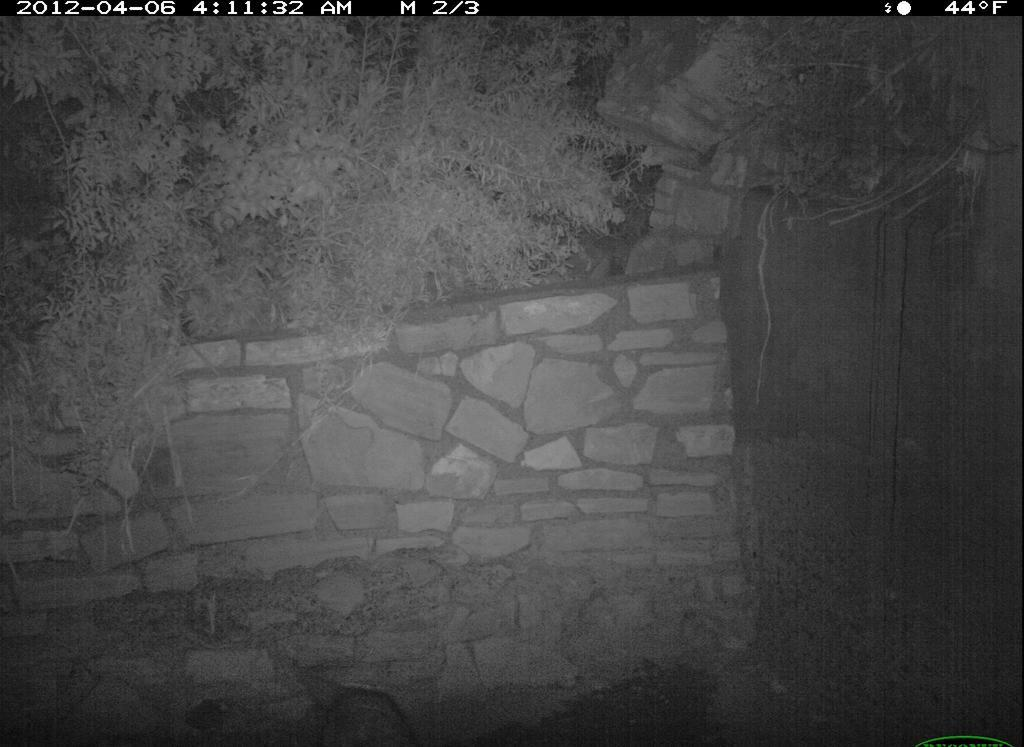raccoon: (282, 660, 434, 747)
